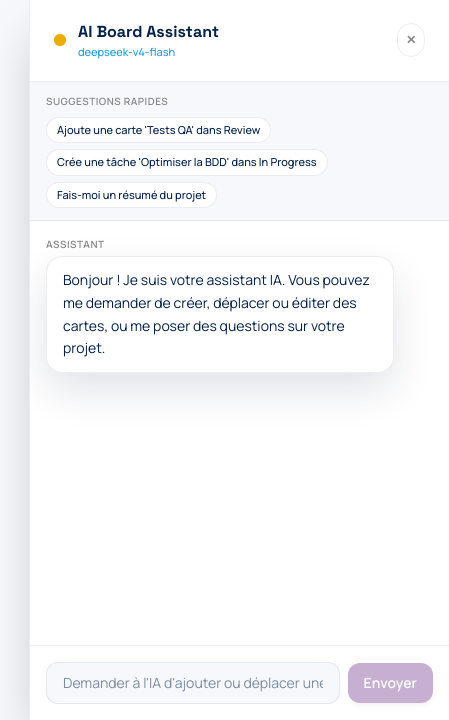
Test: KanbanChatSidebar › safely cleans and extracts message if API returns a raw JSON string
Type "Ajoute QA" into the field with placeholder "Demander à l'IA d'ajouter ou déplacer une carte..." at (193, 683), box [46, 662, 340, 704]
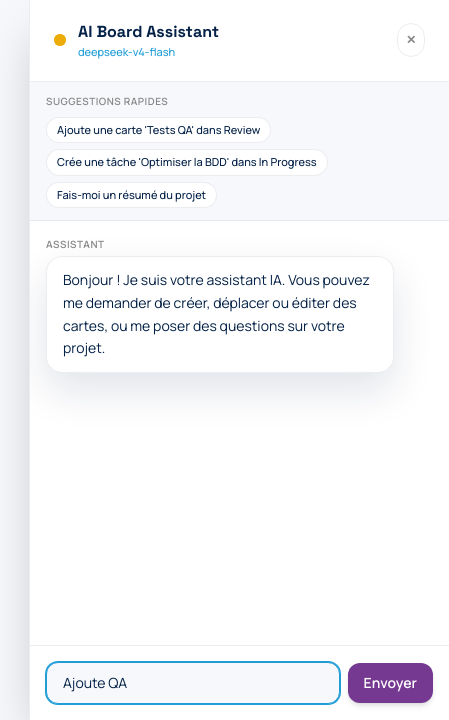
Click the button "Envoyer" at (390, 683), box [348, 663, 433, 703]
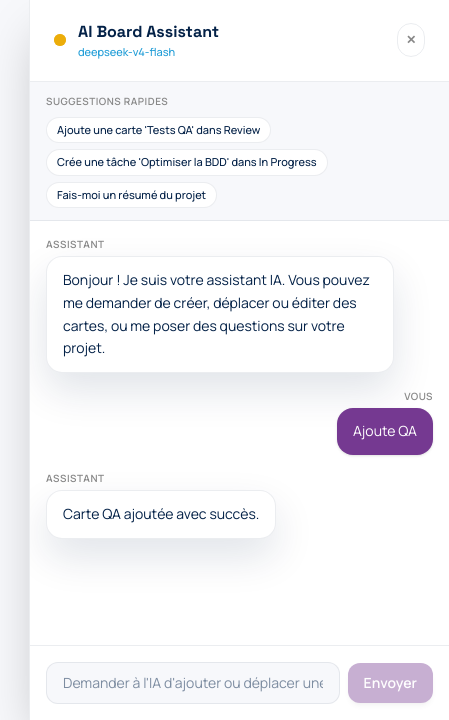
expect the text "Carte QA ajoutée avec succès." is shown: met, box [63, 503, 259, 526]
